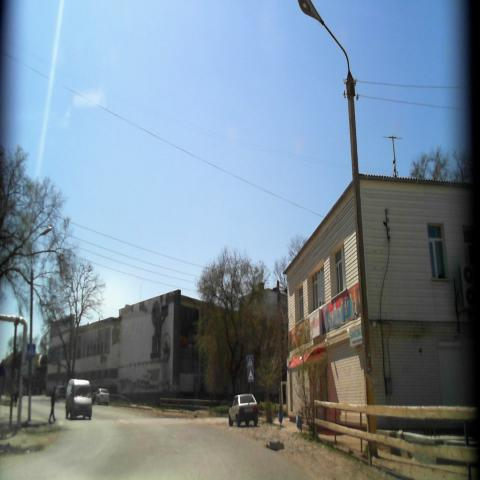5_19_1: (26, 342, 38, 361), (246, 354, 256, 367)
5_20: (246, 365, 254, 384)
